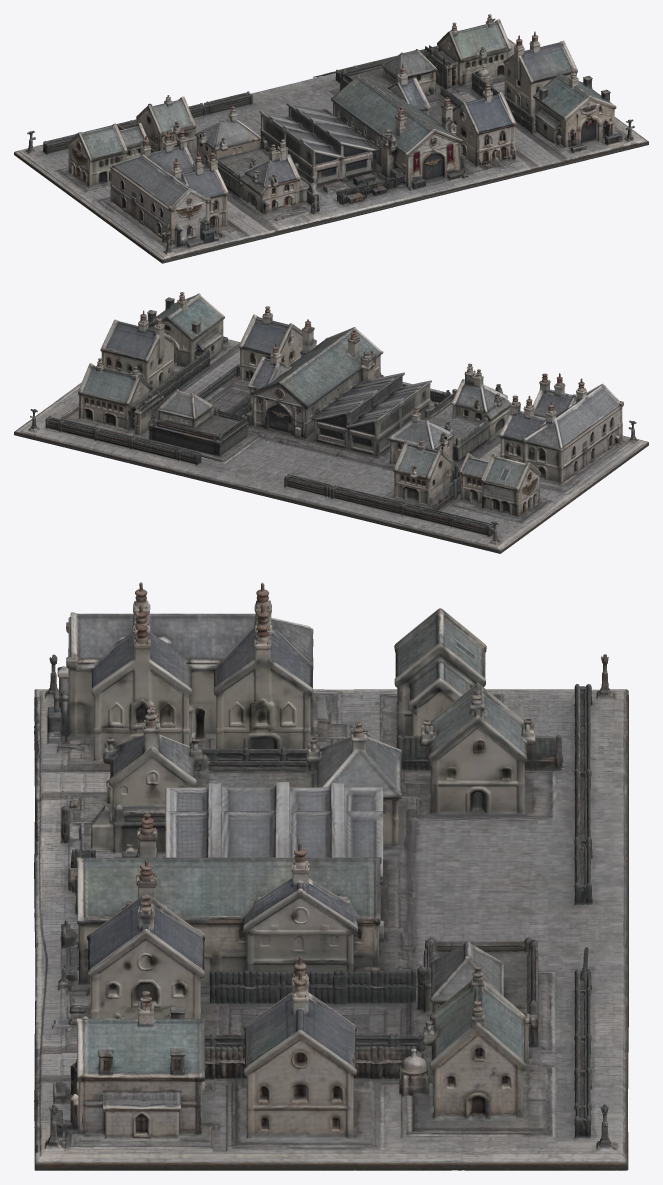
Rendered from medieval_town2.glb.
3 views of the same model, one above another, from view 1: azimuth 30°, elevation 25°; view 2: azimuth 150°, elevation 25°; view 3: azimuth 270°, elevation 25° (orthographic). The views are drawn at different scales.
Bounding box in the file's own units: 0.9848 × 0.1479 × 0.521.
Materials: 1 (1 with a texture image).
